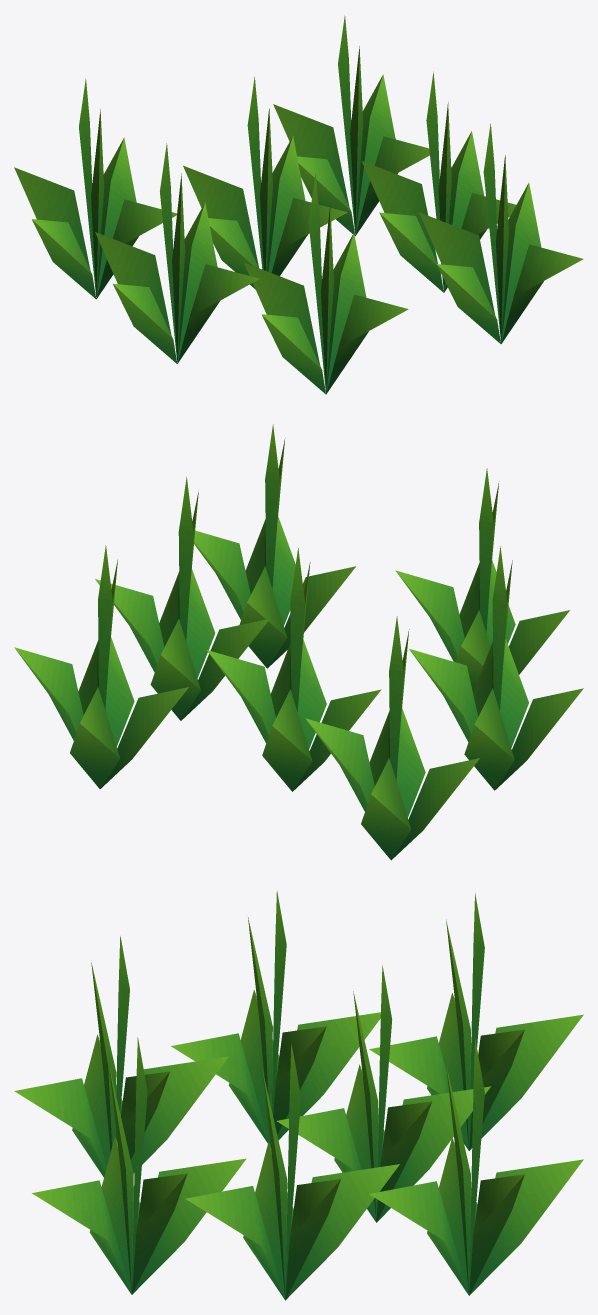
File: wheat_1.glb
3 views of the same model, one above another, from view 1: azimuth 30°, elevation 25°; view 2: azimuth 150°, elevation 25°; view 3: azimuth 270°, elevation 25° (orthographic). The views are drawn at different scales.
Visible parts, largest first — view 1: wheat_16; view 2: wheat_16; view 3: wheat_16.
Boxes of the visible parts, left/top/right/bottom form: wheat_16: left=14, top=15, right=583, bottom=394; wheat_16: left=14, top=424, right=583, bottom=860; wheat_16: left=14, top=891, right=583, bottom=1300.
Bounding box in the file's own units: 1.29 × 0.6895 × 1.4.
1 material, 1 textured.
